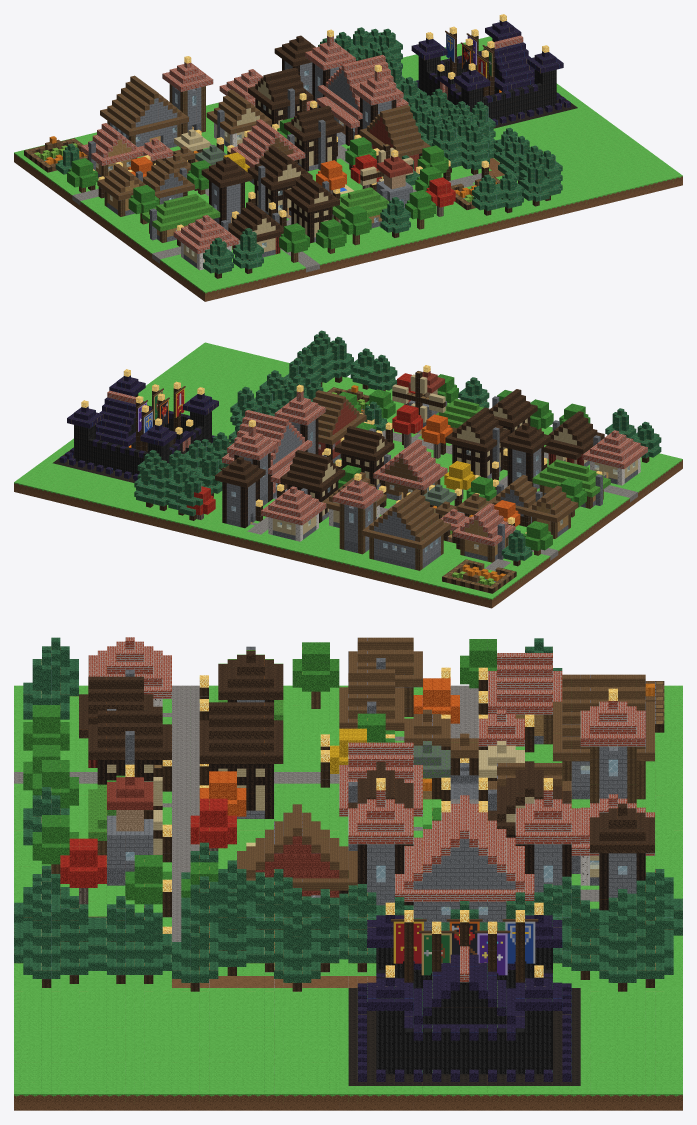
File: village_v3.glb
The picture shows the model from 3 angles, top to bottom: view 1: azimuth 30°, elevation 25°; view 2: azimuth 150°, elevation 25°; view 3: azimuth 270°, elevation 25°; orthographic projection. The views are drawn at different scales.
Parts seen in each view (by area): view 1: V3_Ground, V3_Trees, V3_clan_house, V3_chief_hall, V3_town_hall, V3_house_j, V3_house_m, V3_barn, V3_bell_tower, V3_house_h, V3_house_p, V3_house_l (+18 smaller); view 2: V3_Ground, V3_Trees, V3_clan_house, V3_chief_hall, V3_town_hall, V3_house_m, V3_house_d, V3_bell_tower, V3_house_f, V3_house_e, V3_house_a, V3_house_n (+18 smaller); view 3: V3_Ground, V3_Trees, V3_clan_house, V3_chief_hall, V3_Roads, V3_house_m, V3_barn, V3_town_hall, V3_bell_tower, V3_windmill, V3_house_p, V3_house_f (+23 smaller).
Boxes of the visible parts, x1,y1,x2,y2 form: V3_Ground: (14, 36, 682, 301); V3_Trees: (55, 27, 562, 278); V3_clan_house: (411, 14, 577, 128); V3_chief_hall: (305, 29, 408, 145); V3_town_hall: (100, 75, 188, 148); V3_house_j: (284, 105, 343, 171); V3_house_m: (247, 145, 312, 217); V3_barn: (359, 105, 430, 171); V3_bell_tower: (162, 56, 213, 133); V3_house_h: (248, 67, 313, 127); V3_house_p: (284, 173, 339, 243); V3_house_l: (201, 157, 252, 224); V3_Ground: (14, 342, 682, 608); V3_Trees: (134, 330, 661, 566); V3_clan_house: (52, 369, 230, 482); V3_chief_hall: (222, 384, 325, 505); V3_town_hall: (362, 489, 450, 570); V3_house_m: (445, 407, 510, 478); V3_house_d: (373, 439, 447, 500); V3_bell_tower: (332, 473, 383, 554); V3_house_f: (215, 456, 265, 528); V3_house_e: (261, 486, 326, 541); V3_house_a: (453, 503, 515, 562); V3_house_n: (582, 430, 647, 485); V3_Ground: (14, 685, 682, 1110); V3_Trees: (14, 637, 682, 991); V3_clan_house: (348, 902, 580, 1085); V3_chief_hall: (348, 778, 580, 930); V3_Roads: (14, 685, 599, 987); V3_house_m: (199, 702, 283, 818); V3_barn: (237, 804, 357, 897); V3_town_hall: (553, 674, 654, 799); V3_bell_tower: (580, 688, 645, 803); V3_windmill: (107, 764, 162, 885); V3_house_p: (88, 710, 171, 784); V3_house_f: (590, 803, 654, 910).
Size of the model in its own units: 104 by 19 by 72.
Materials: 38 (3 with a texture image).
